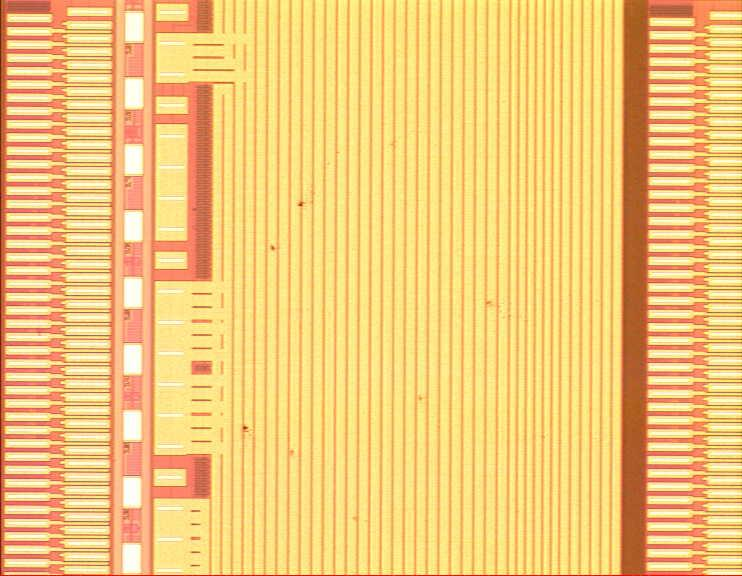PO CONTAMINATION: (230, 132, 531, 535)
